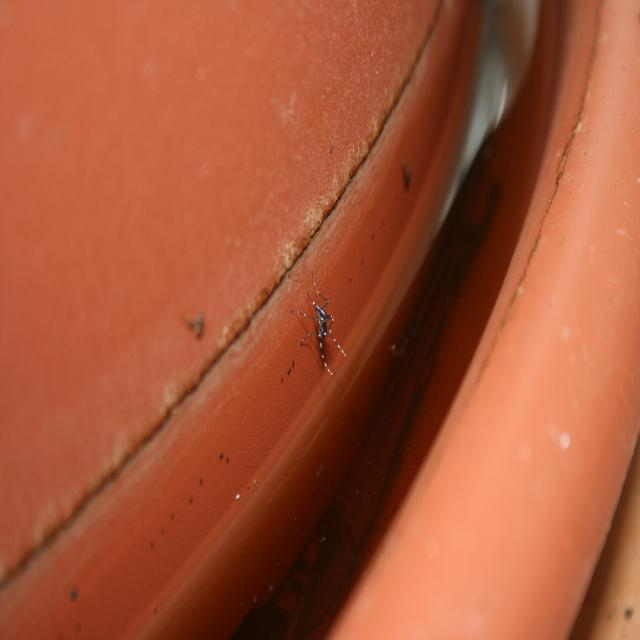albopictus: (282, 269, 350, 381)
